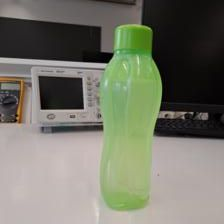bottle: (94, 21, 164, 210)
